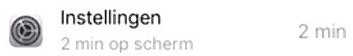name: (52, 2, 168, 29)
time: (57, 33, 107, 55)
